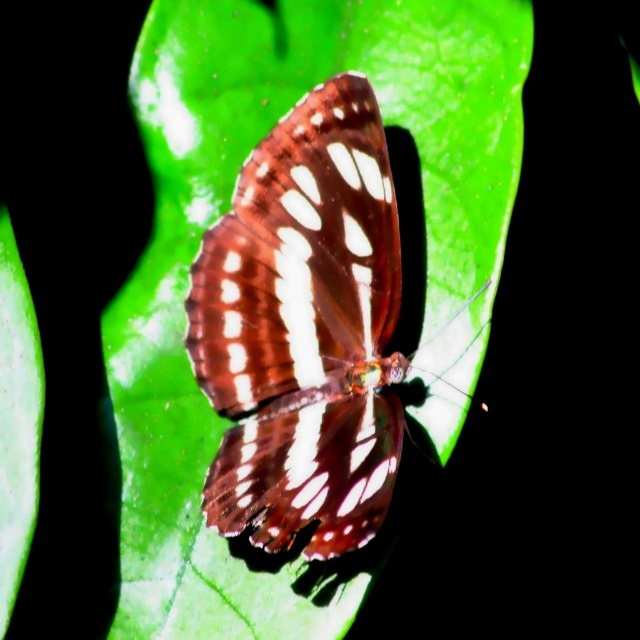Butterfly: (181, 71, 488, 566)
